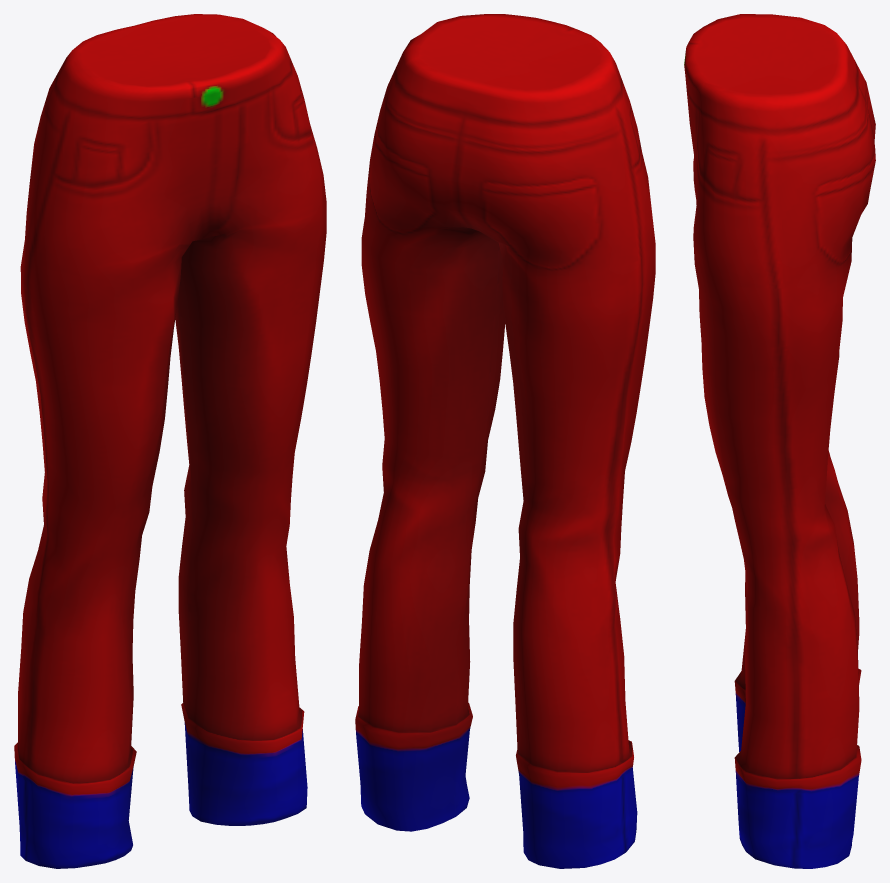
File: BSMC_Bottom_CuffedJeans.obj
3 views of the same model, side by side, from view 1: azimuth 30°, elevation 25°; view 2: azimuth 150°, elevation 25°; view 3: azimuth 270°, elevation 25° (orthographic). The views are drawn at different scales.
Parts seen in each view (by area): view 1: BSMC_Bottom_CuffedJeans_0; view 2: BSMC_Bottom_CuffedJeans_0; view 3: BSMC_Bottom_CuffedJeans_0.
Boxes of the visible parts, x1=… form: BSMC_Bottom_CuffedJeans_0: x1=14, y1=14, x2=326, y2=868; BSMC_Bottom_CuffedJeans_0: x1=355, y1=14, x2=655, y2=868; BSMC_Bottom_CuffedJeans_0: x1=684, y1=14, x2=875, y2=868.
Bounding box in the file's own units: 0.3789 × 1.01 × 0.2307.
1 material, 1 textured.
